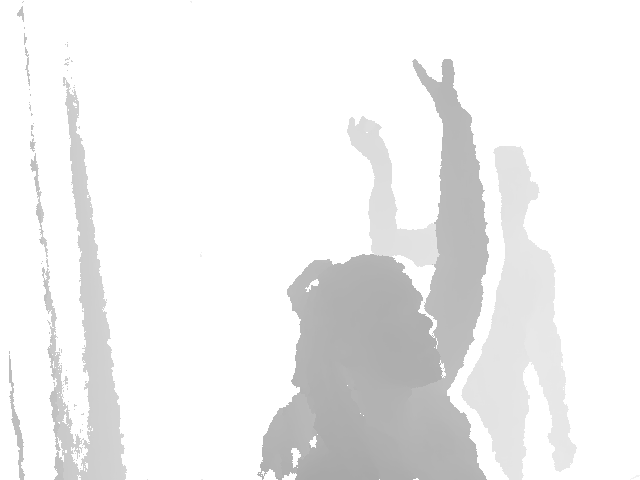hand: (411, 57, 466, 108), (345, 114, 393, 159)
head: (287, 253, 447, 399), (492, 145, 540, 232)
person: (255, 56, 489, 479), (344, 113, 577, 479)
